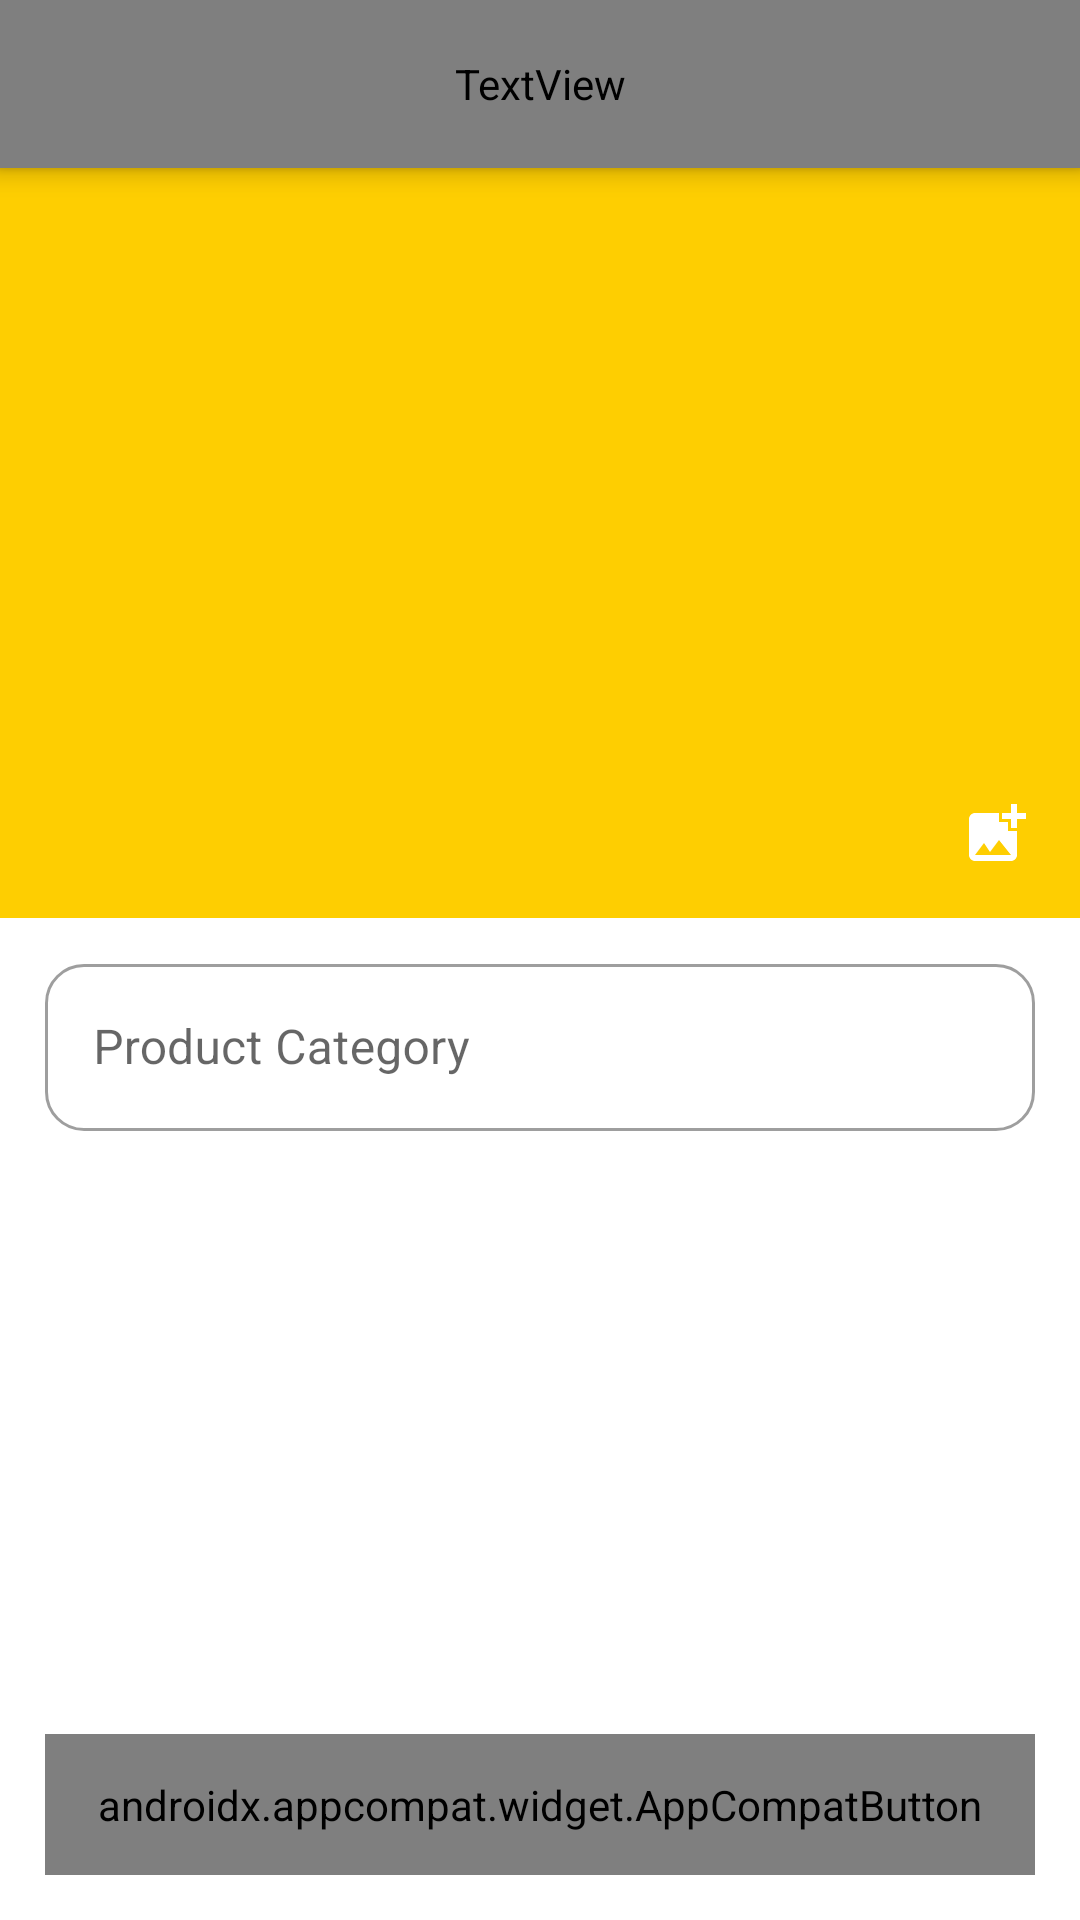

Icon bounding boxes for this 1080x1920 phone screenshot, format BBox(x1, y1, x2, y2):
add photo alternate: BBox(969, 804, 1026, 861)
